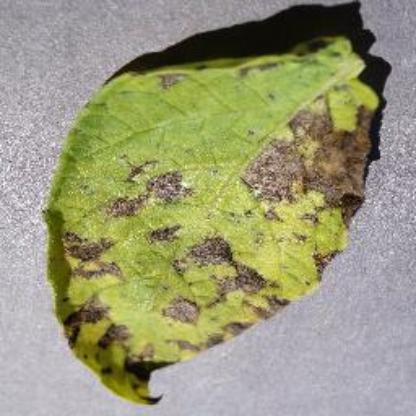Early-Blight: (43, 35, 389, 407)
